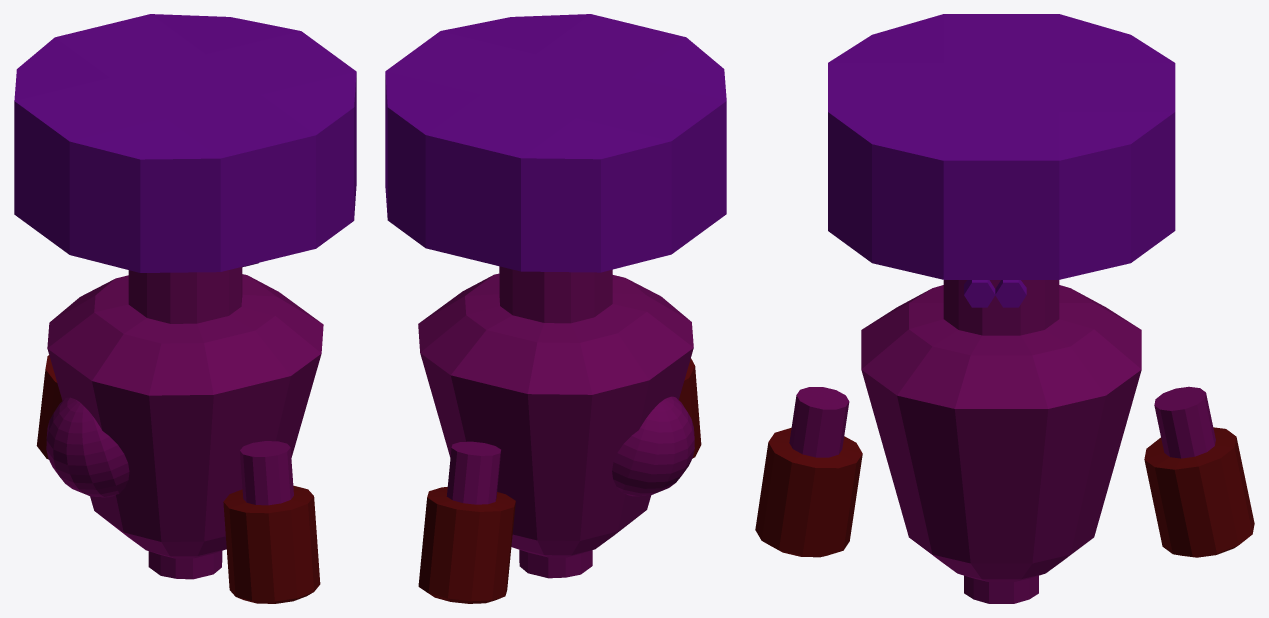
Rendered from bossGolumn.fbx.
The picture shows the model from 3 angles, left to right: view 1: azimuth 30°, elevation 25°; view 2: azimuth 150°, elevation 25°; view 3: azimuth 270°, elevation 25°; orthographic projection. The views are drawn at different scales.
Visible parts, largest first — view 1: body, rightArm, backPlate, leftArm; view 2: body, leftArm, backPlate, rightArm; view 3: body, rightArm, leftArm.
Part boxes in pixels (<box>): body: <box>14,14,356,579</box>; rightArm: <box>223,441,320,603</box>; backPlate: <box>46,397,129,497</box>; leftArm: <box>36,355,62,459</box>; body: <box>385,14,726,578</box>; leftArm: <box>418,441,515,603</box>; backPlate: <box>612,396,694,496</box>; rightArm: <box>679,358,701,458</box>; body: <box>828,14,1175,603</box>; rightArm: <box>755,387,862,557</box>; leftArm: <box>1144,386,1254,557</box>.
Size of the model in its own units: 929 by 1478 by 1336.
